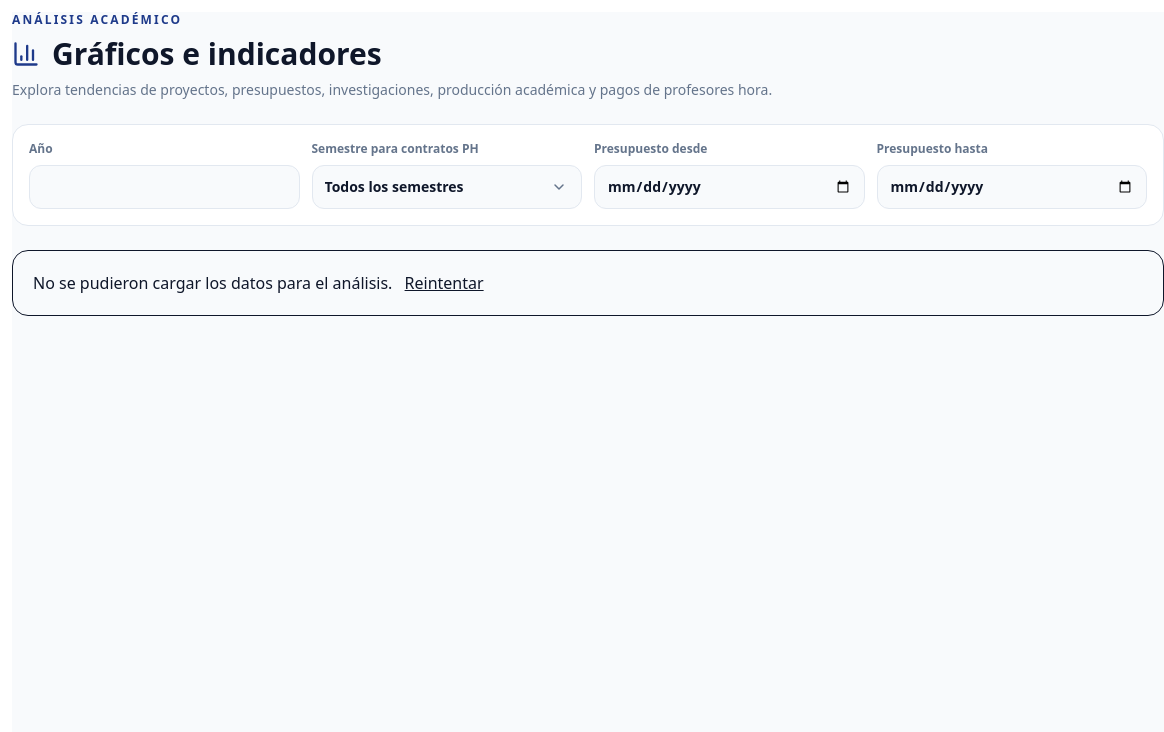
it: Academic charts › permite reintentar una consulta GraphQL fallida y cargar indicadores vacíos
Expected: the message "No se pudieron cargar los datos para el análisis. Reintentar" is shown, [12,250,1163,316]
Click the button "Reintentar": (444, 283) [405,271,484,295]
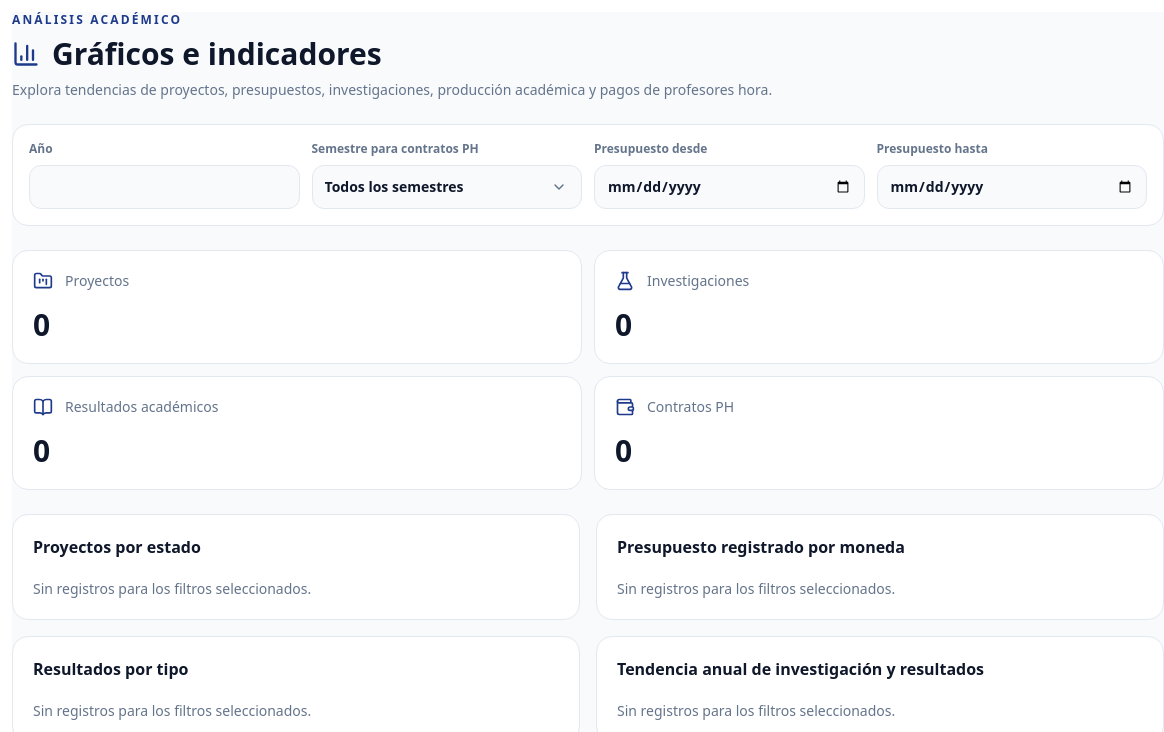
Now the heading "Proyectos por estado" is shown, box [33,536,201,558]
Now the message "No se pudieron cargar los datos para el análisis. Reintentar" is gone
